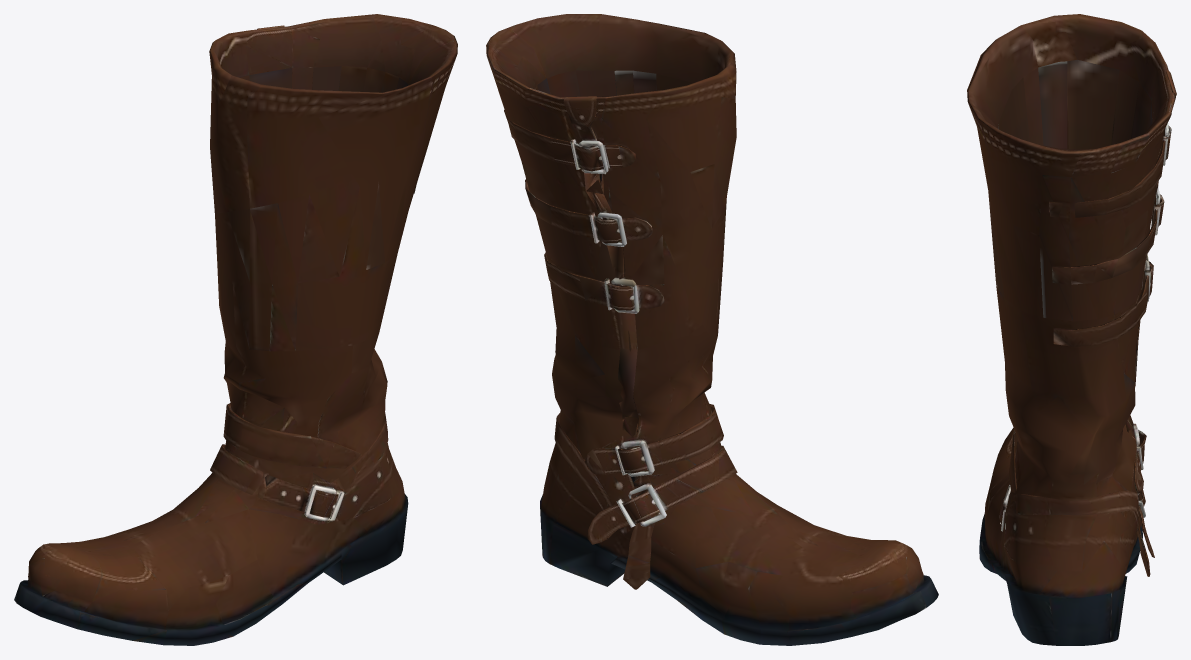
File: leather_boot.glb
The picture shows the model from 3 angles, left to right: view 1: azimuth 30°, elevation 25°; view 2: azimuth 150°, elevation 25°; view 3: azimuth 270°, elevation 25°; orthographic projection. The views are drawn at different scales.
Size of the model in its own units: 0.8101 by 0.9536 by 0.3198.
1 material, 1 textured.
